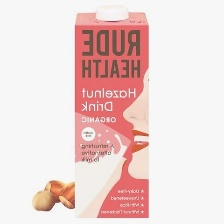carton: (72, 2, 150, 219)
